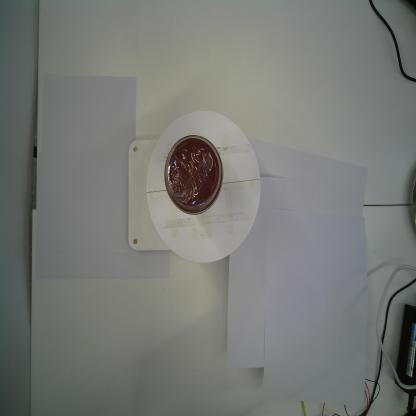Instant Drink: (164, 134, 224, 216)
